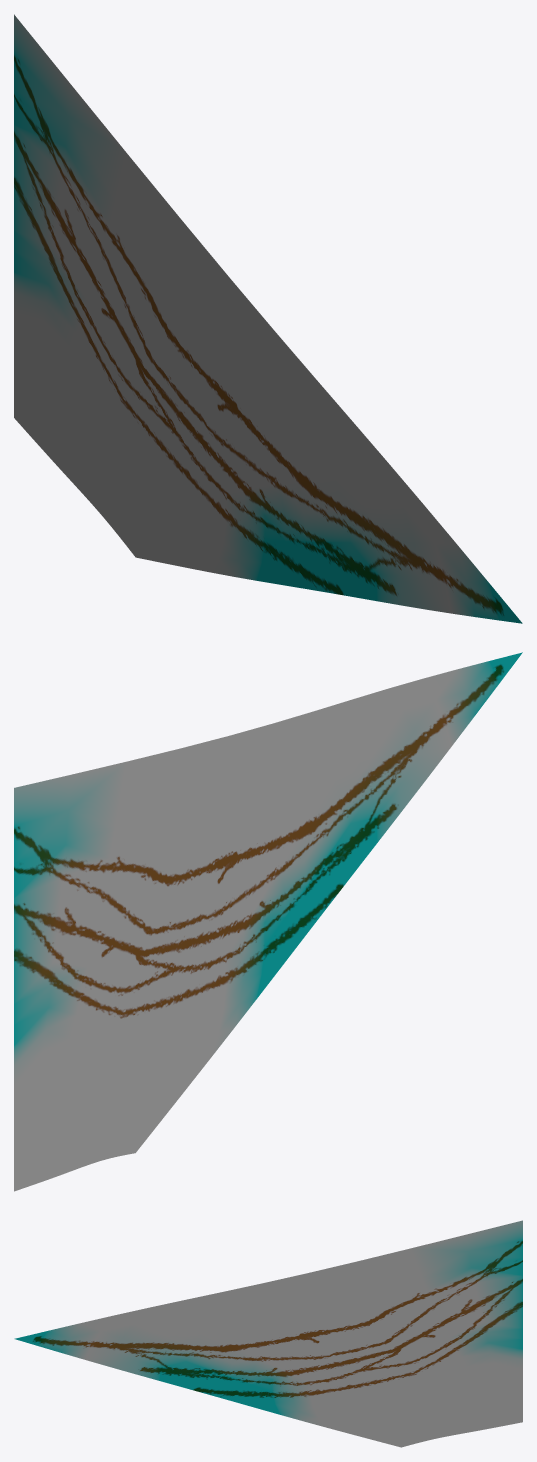
The model's file is SM_Rope_A01.gltf.
The picture shows the model from 3 angles, top to bottom: view 1: azimuth 30°, elevation 25°; view 2: azimuth 150°, elevation 25°; view 3: azimuth 270°, elevation 25°; orthographic projection. The views are drawn at different scales.
Visible parts, largest first — view 1: SM_Rope_A01_LOD0; view 2: SM_Rope_A01_LOD0; view 3: SM_Rope_A01_LOD0.
Boxes of the visible parts, x1,y1,x2,y2 form: SM_Rope_A01_LOD0: (14,14,522,623); SM_Rope_A01_LOD0: (14,652,522,1191); SM_Rope_A01_LOD0: (14,1220,522,1447).
Size of what is drawn, in the model's own units: 2.47e-06 by 9.67 by 19.63.
Materials: 1 (1 with a texture image).
